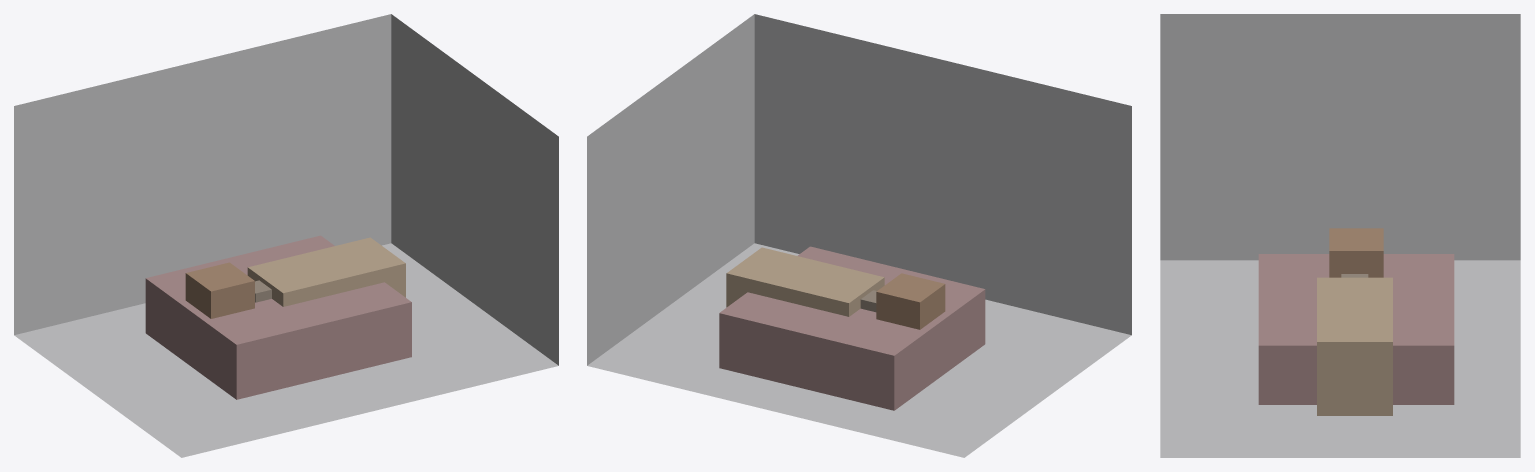
The model's file is current_layout.glb.
The picture shows the model from 3 angles, left to right: view 1: azimuth 30°, elevation 25°; view 2: azimuth 150°, elevation 25°; view 3: azimuth 270°, elevation 25°; orthographic projection. The views are drawn at different scales.
Parts seen in each view (by area): view 1: room, bed, desk, chair; view 2: room, bed, desk, chair; view 3: room, bed, desk, chair.
Part boxes in pixels (x1,y1,x2,y2): room: (14,14,558,457); bed: (145,235,411,399); desk: (247,237,405,306); chair: (185,262,254,318); room: (587,14,1131,457); bed: (719,246,985,410); desk: (726,247,884,316); chair: (876,273,945,329); room: (1160,14,1520,457); bed: (1258,254,1454,404); desk: (1317,277,1392,415); chair: (1329,228,1383,277).
Bounding box in the file's own units: 4.31 × 2.5 × 3.31.
